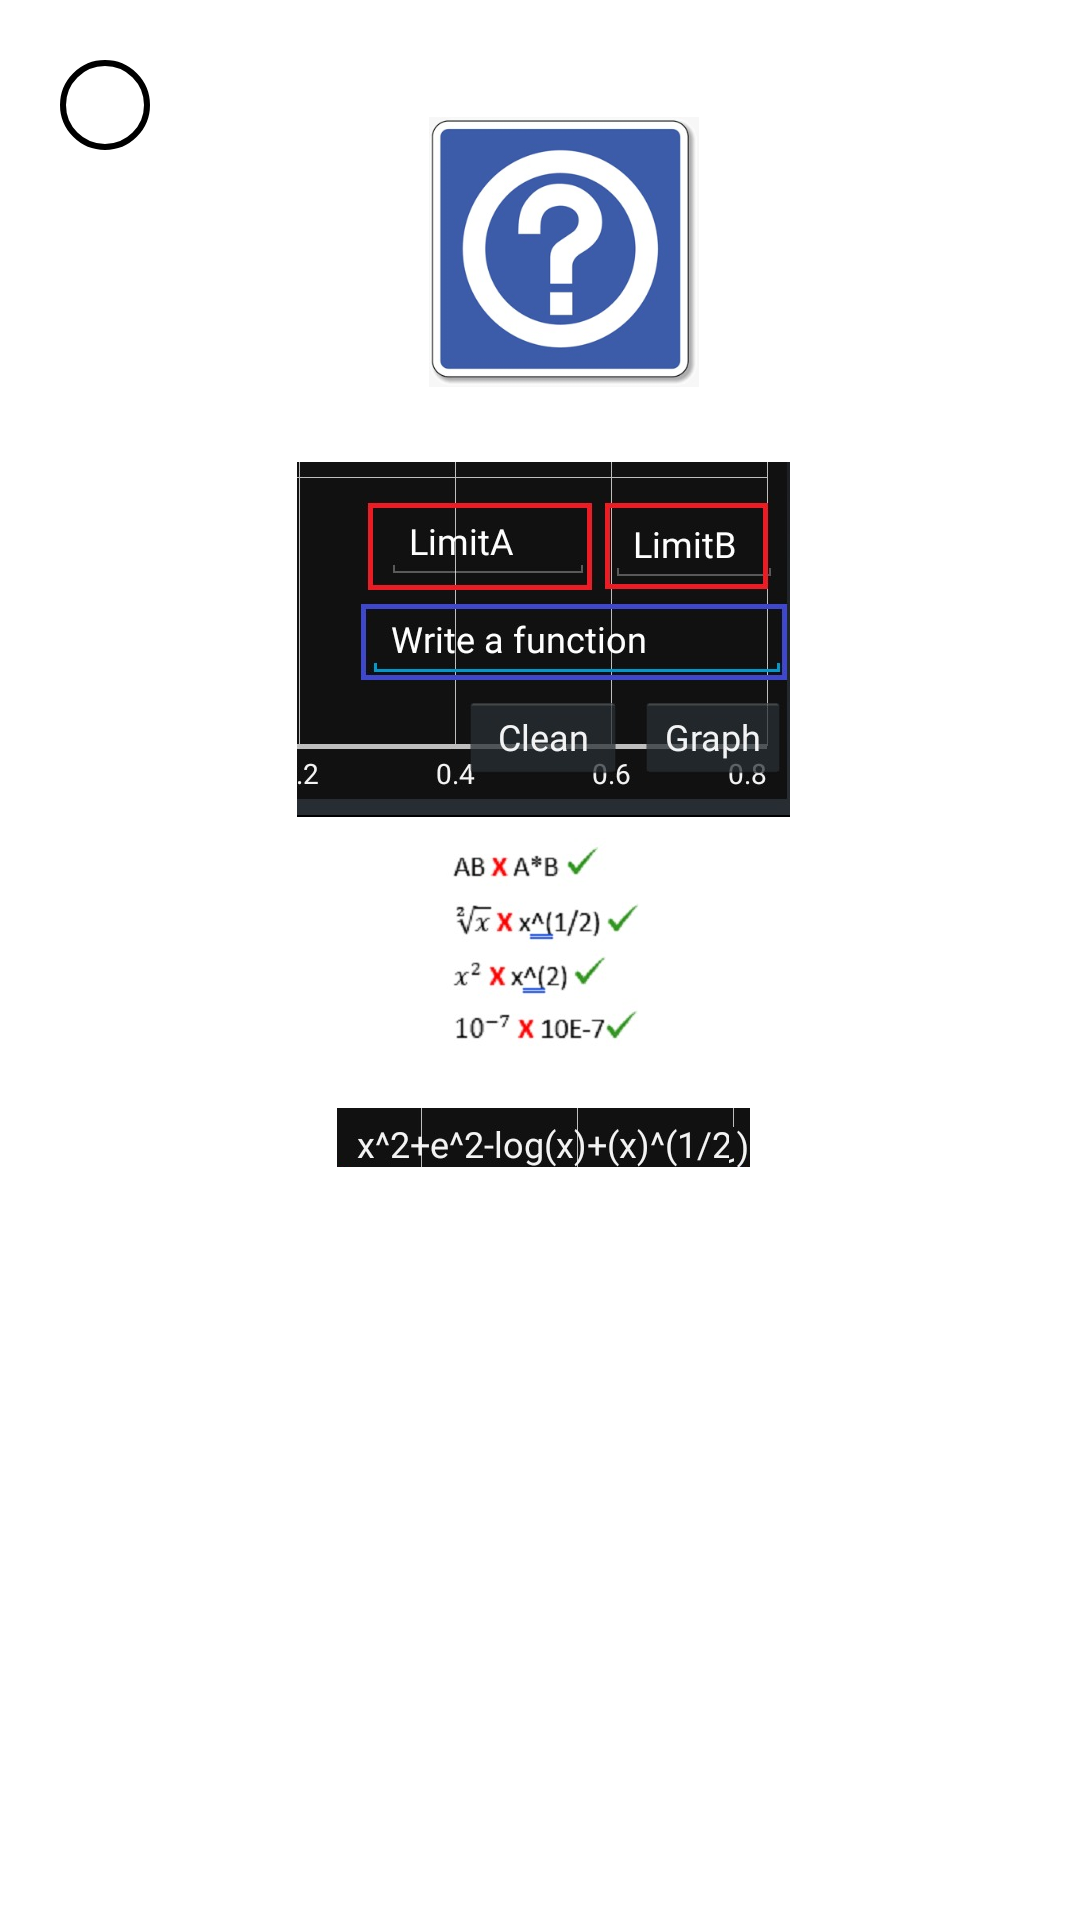

Icon click points for this 1080×1920 phone screenshot, format (x,y):
signo: (562,251)
